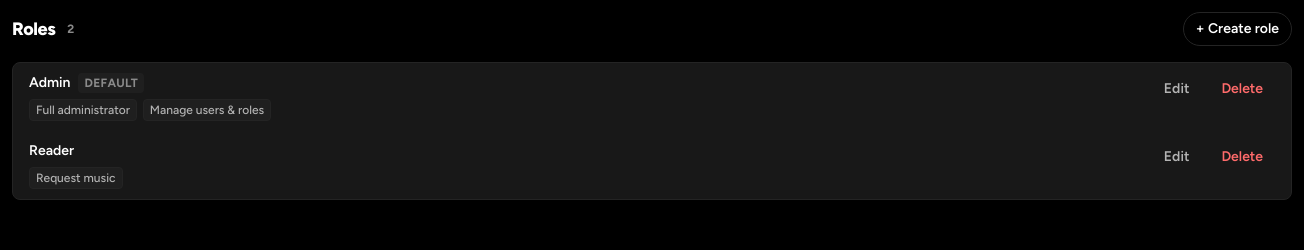
Test: RolesSection › handles deleteRole 409 (role in use) with a friendly message
Click the button "Delete" in the row of "Default" at (1242, 89), box [1209,73,1275,105]
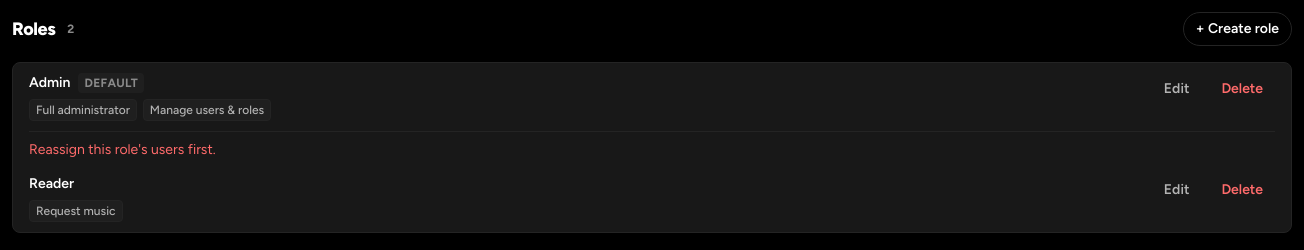
Check: the message shows "Reassign", box [29,141,216,158]
